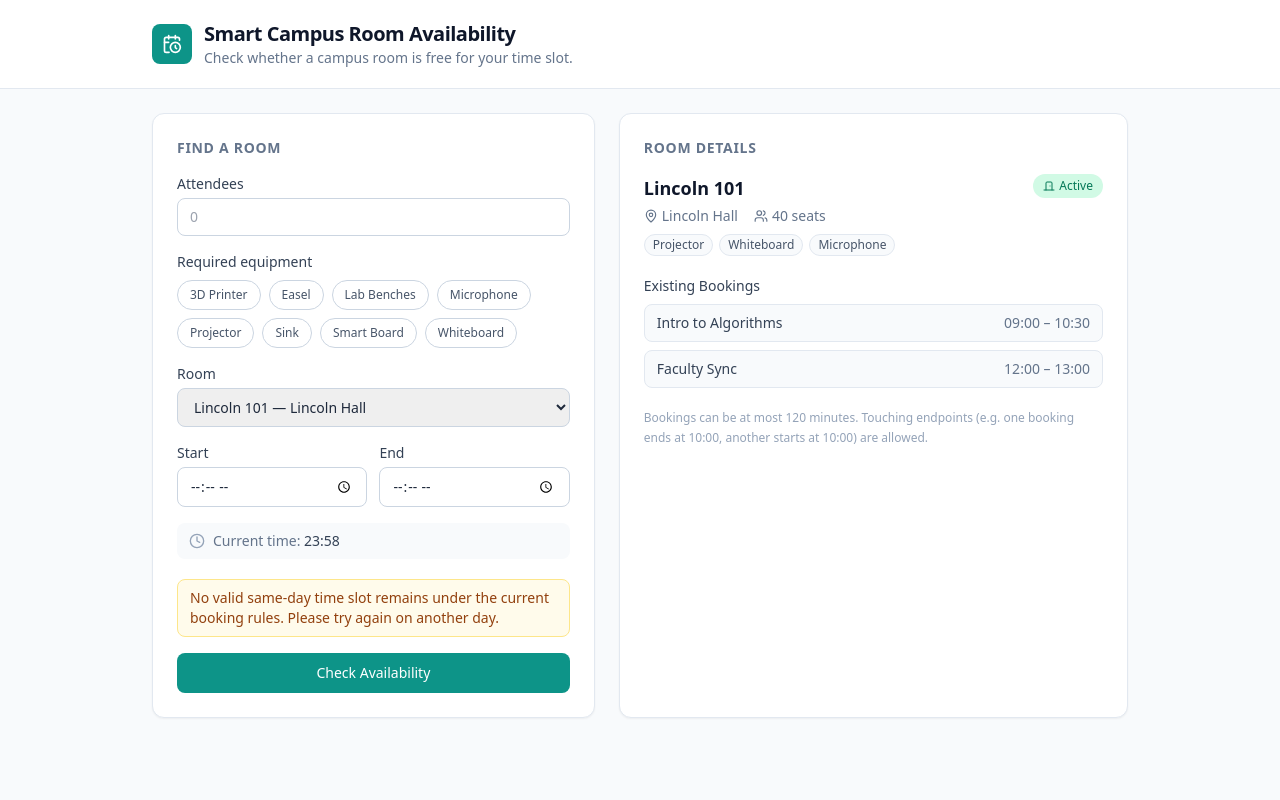
RoomChecker UI — late-night default times (R2) › R2-23:58: does not invent valid defaults when the rounded clock reaches 24:00
Expected: the 2nd time field is empty, [379,467,570,507]
Expected: the text "Current time: 23:58" is shown, [213,531,340,551]
Type "23:58" into the 1st time field at point(272, 487), box [177,467,367,507]
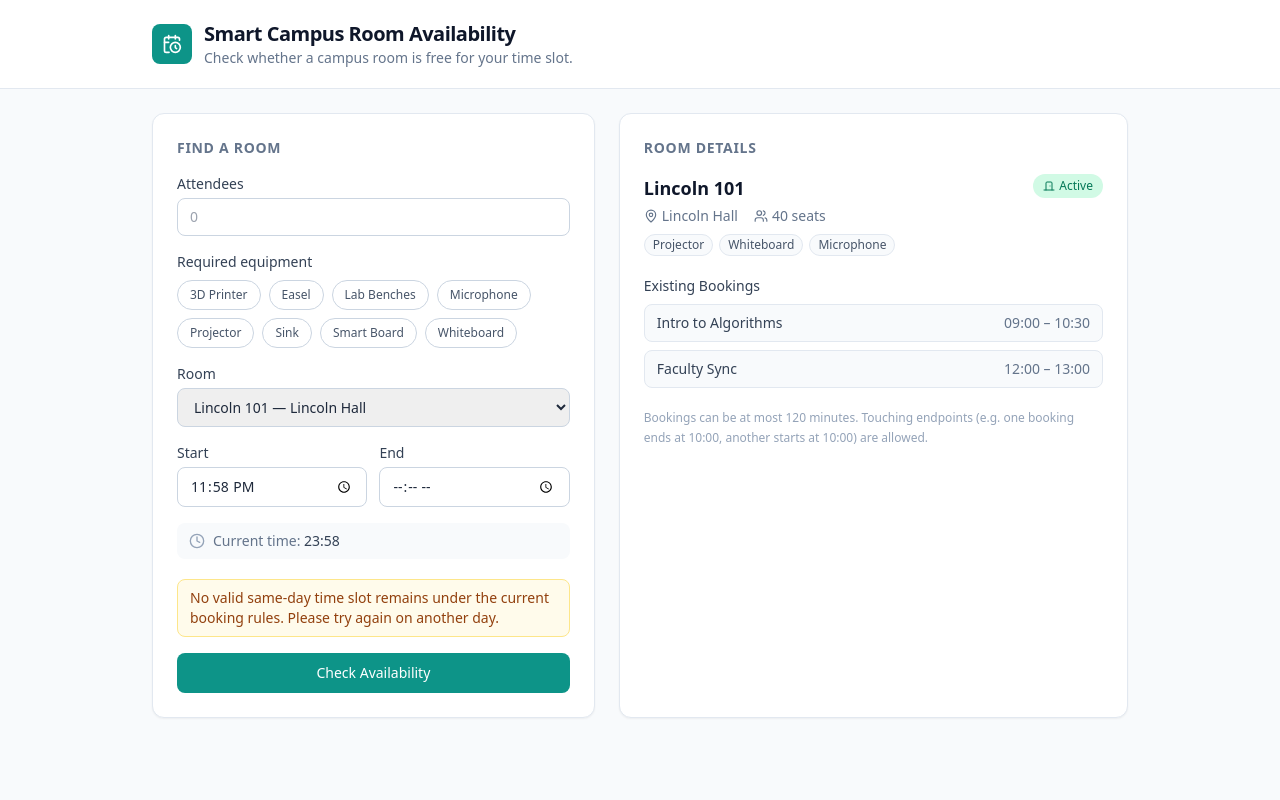
Type "23:59" into the 2nd time field at point(475, 487), box [379,467,570,507]
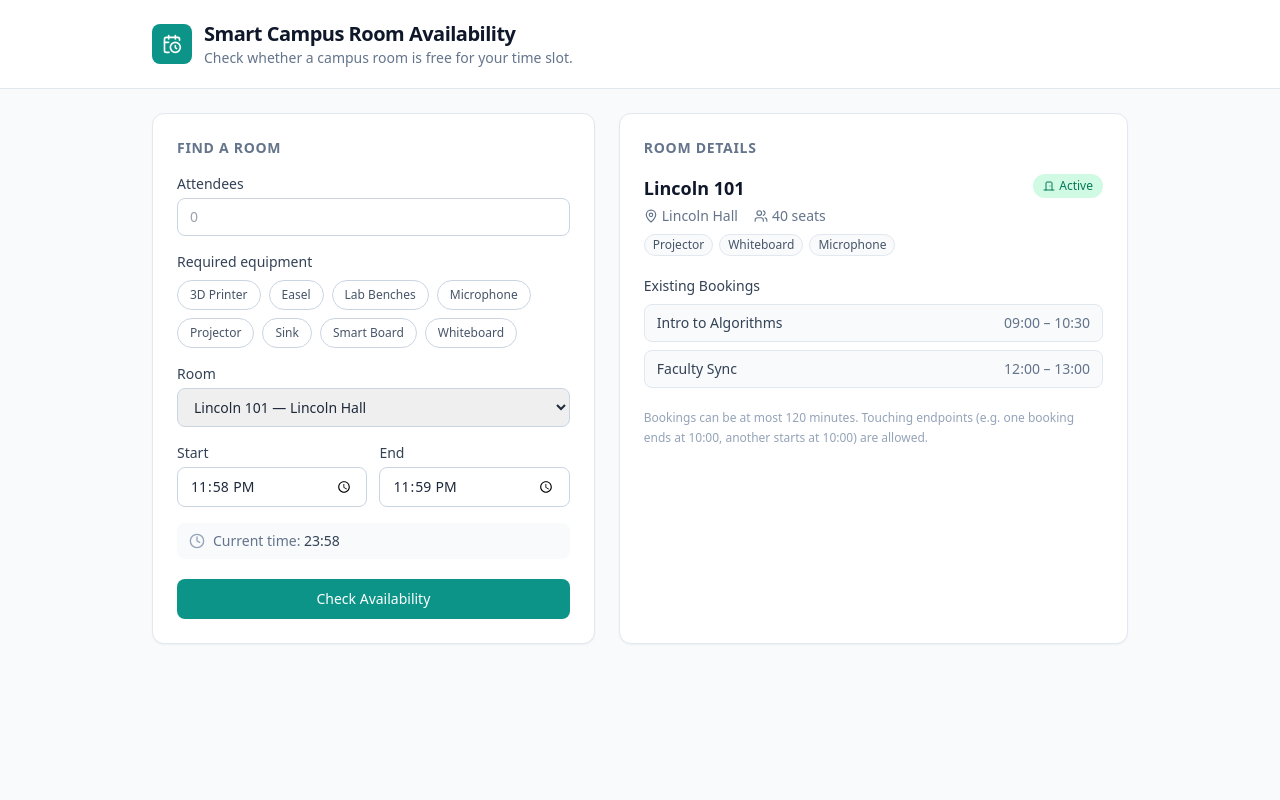
Click the button "Check Availability" at point(373, 599), box [177,579,570,619]
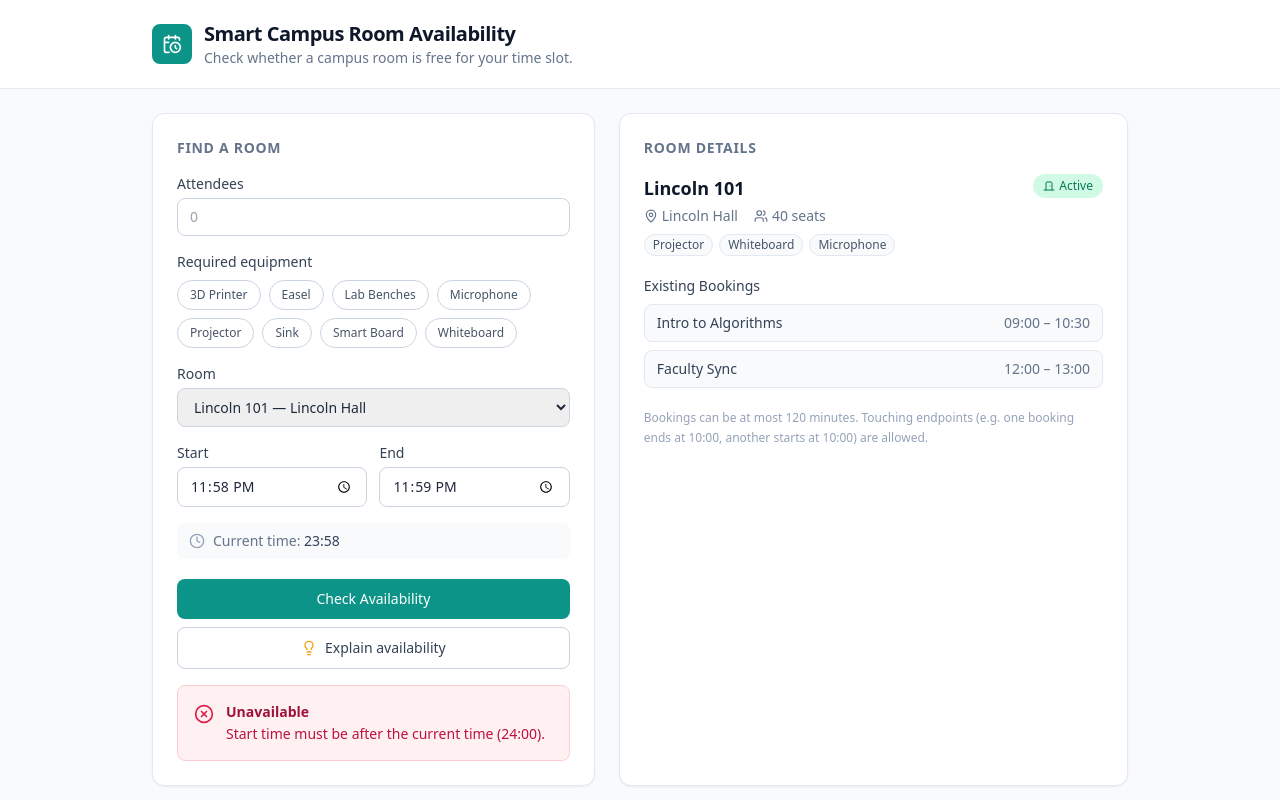
Expected: the text "Start time must be after the current time (24:00)." is shown, [226,724,545,744]
